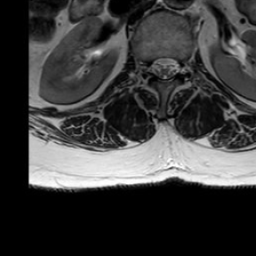CCS_normal: (160, 47, 169, 90)
LFS_normal: (180, 49, 189, 84)
LLS_normal: (169, 47, 180, 84)
RFS_stenosis: (142, 50, 151, 81)
RLS_normal: (151, 48, 160, 84)
